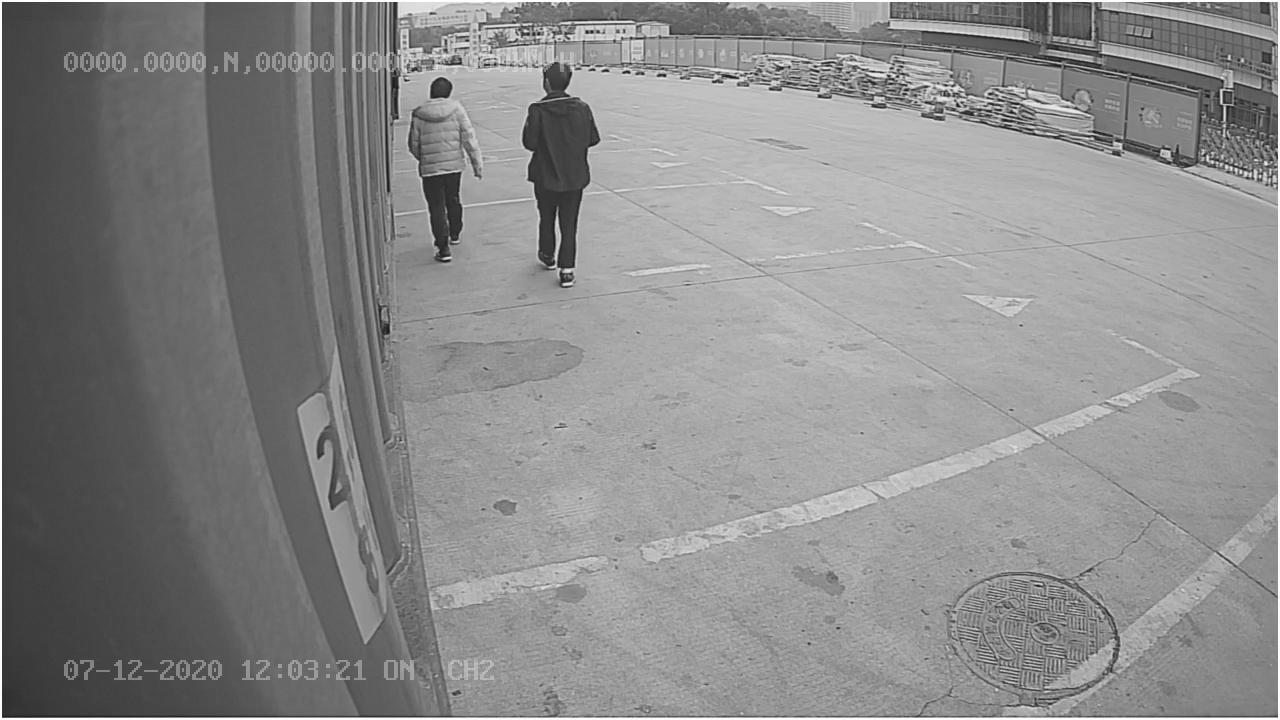person: (521, 56, 598, 289)
